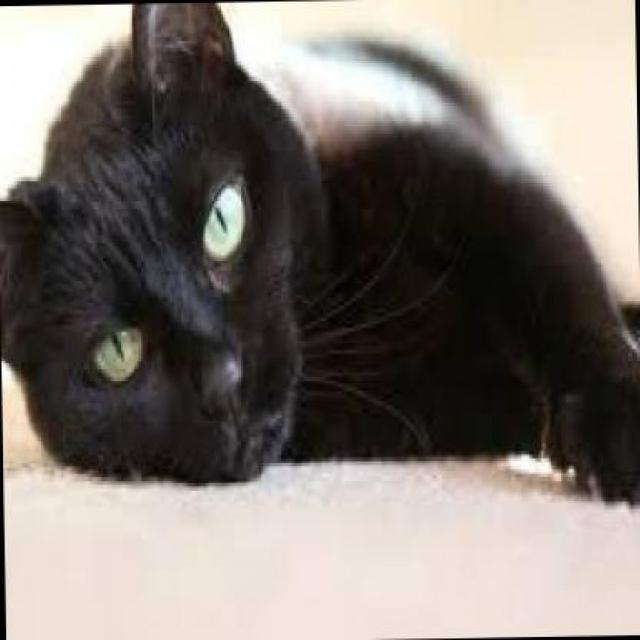animals: (0, 8, 634, 514)
